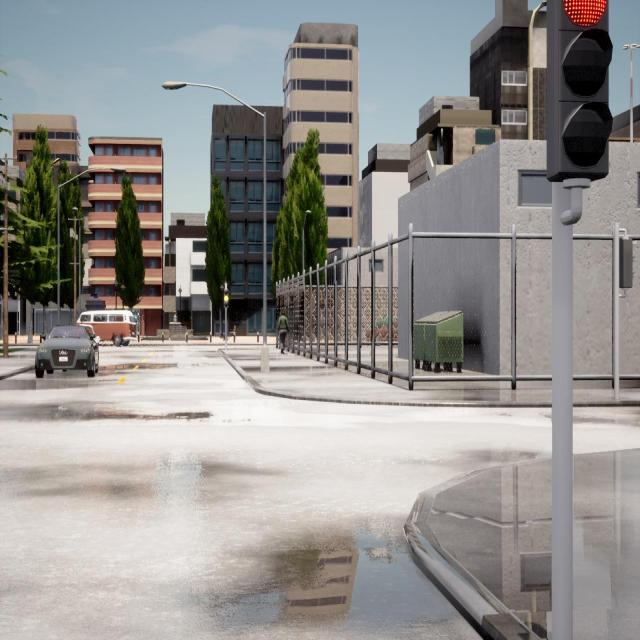Pedestrian: (277, 309, 289, 353)
Vehicle: (35, 324, 97, 377), (80, 310, 137, 344)
traffic_light: (546, 0, 609, 173), (620, 239, 634, 288), (223, 288, 229, 308)
